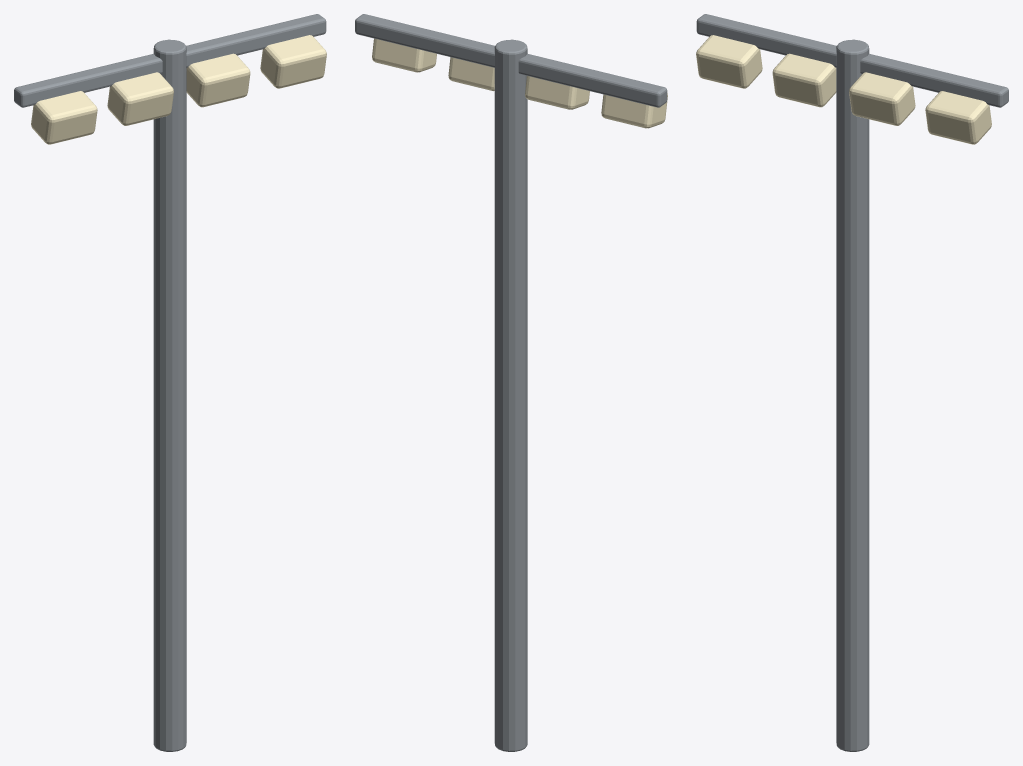
Rendered from light_mast.glb.
3 renders of one model, left to right at view 1: azimuth 30°, elevation 25°; view 2: azimuth 150°, elevation 25°; view 3: azimuth 330°, elevation 25°, orthographic.
Parts seen in each view (by area): view 1: Pole, Crossbar, FloodLight.003, FloodLight.001, FloodLight, FloodLight.002; view 2: Pole, Crossbar, FloodLight, FloodLight.003, FloodLight.001, FloodLight.002; view 3: Pole, Crossbar, FloodLight, FloodLight.002, FloodLight.003, FloodLight.001.
Part boxes in pixels (x1,y1,x2,y2): Pole: (153,39,186,751); Crossbar: (14,14,326,107); FloodLight.003: (260,35,326,88); FloodLight.001: (107,72,173,125); FloodLight: (31,91,97,144); FloodLight.002: (186,53,250,107); Pole: (494,39,527,751); Crossbar: (355,14,667,107); FloodLight: (601,93,667,128); FloodLight.003: (372,38,436,72); FloodLight.001: (525,76,589,109); FloodLight.002: (448,57,494,91); Pole: (836,39,869,751); Crossbar: (696,14,1008,107); FloodLight: (696,35,762,88); FloodLight.002: (849,72,915,125); FloodLight.003: (925,91,991,144); FloodLight.001: (772,53,836,107).
Size of the model in its own units: 3.2 by 7 by 0.4992.
